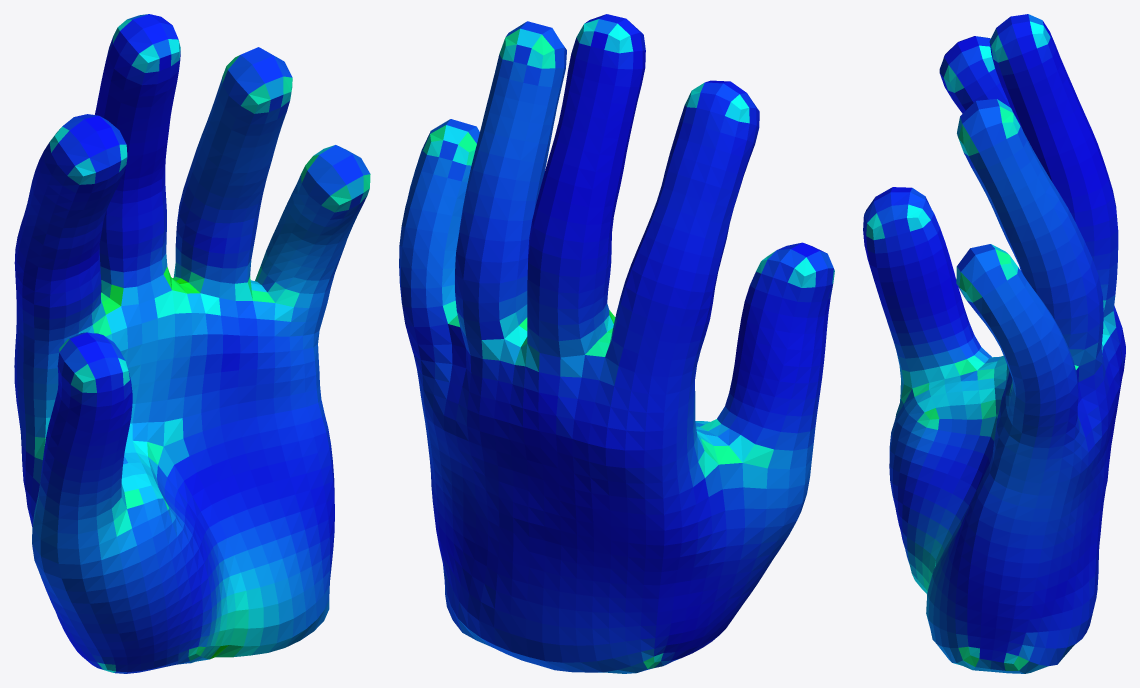
File: hand_opt_quality.obj
3 renders of one model, left to right at view 1: azimuth 30°, elevation 25°; view 2: azimuth 150°, elevation 25°; view 3: azimuth 270°, elevation 25°, orthographic. The views are drawn at different scales.
Bounding box in the file's own units: 25.27 × 43.21 × 17.33.
